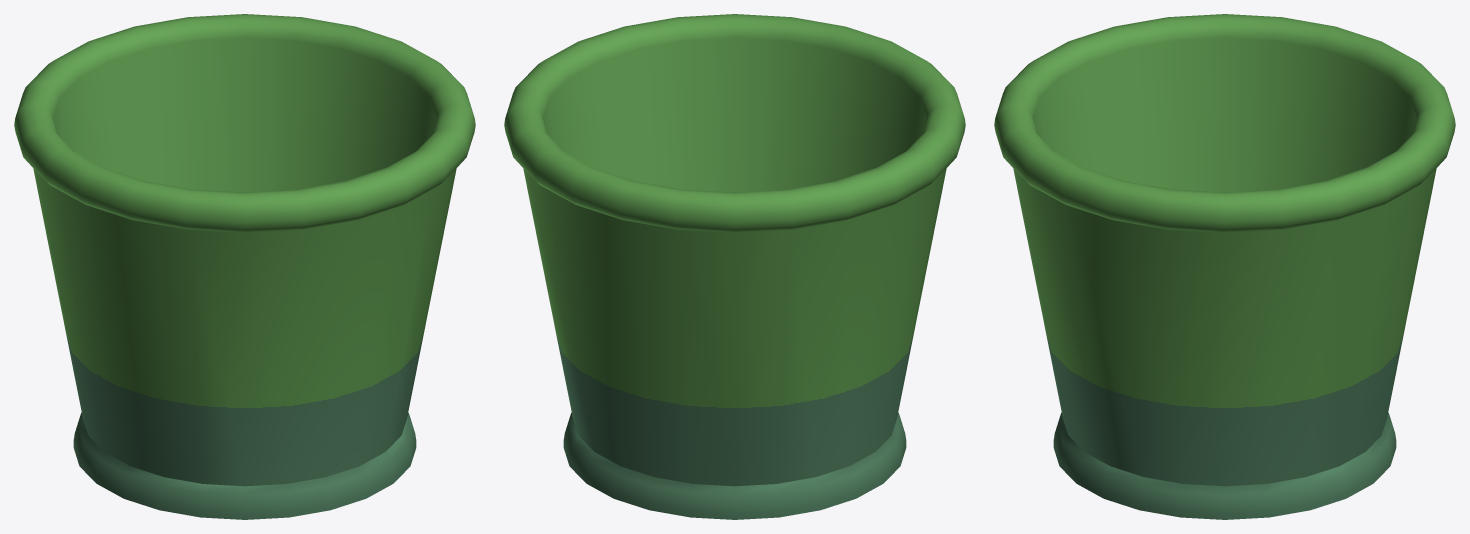
File: cesto_recup.fbx
3 renders of one model, left to right at view 1: azimuth 30°, elevation 25°; view 2: azimuth 150°, elevation 25°; view 3: azimuth 270°, elevation 25°, orthographic.
Parts seen in each view (by area): view 1: cesto_recup; view 2: cesto_recup; view 3: cesto_recup.
Part boxes in pixels (left/top/right/bottom): cesto_recup: left=14, top=14, right=475, bottom=519; cesto_recup: left=504, top=14, right=965, bottom=519; cesto_recup: left=994, top=14, right=1455, bottom=519.
Size of the model in its own units: 148 by 121 by 148.
